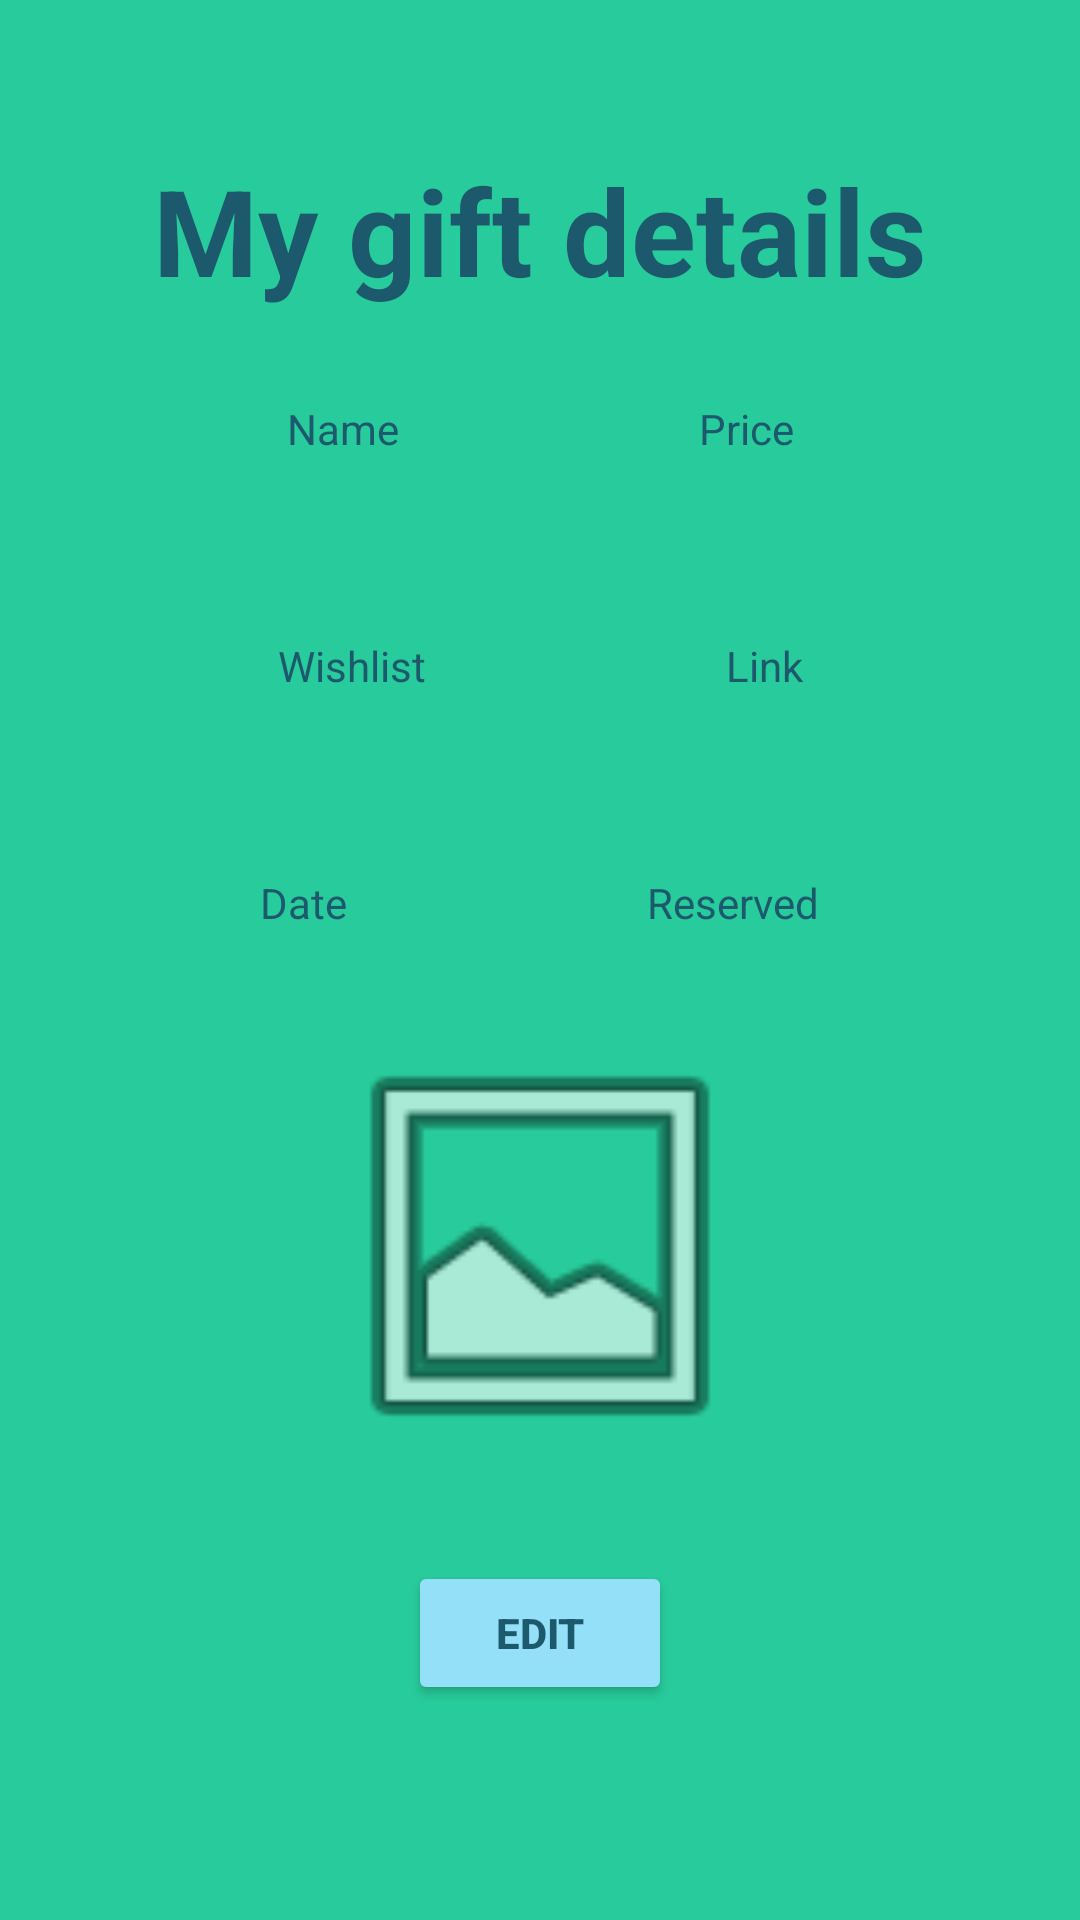

Point at icon controls on the screen. Image size 1080 × 1920, points as [x,y].
gallery: [540,1246]
